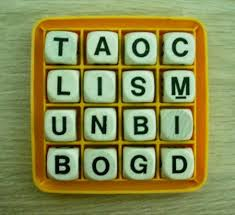boggle: (28, 15, 211, 195)
